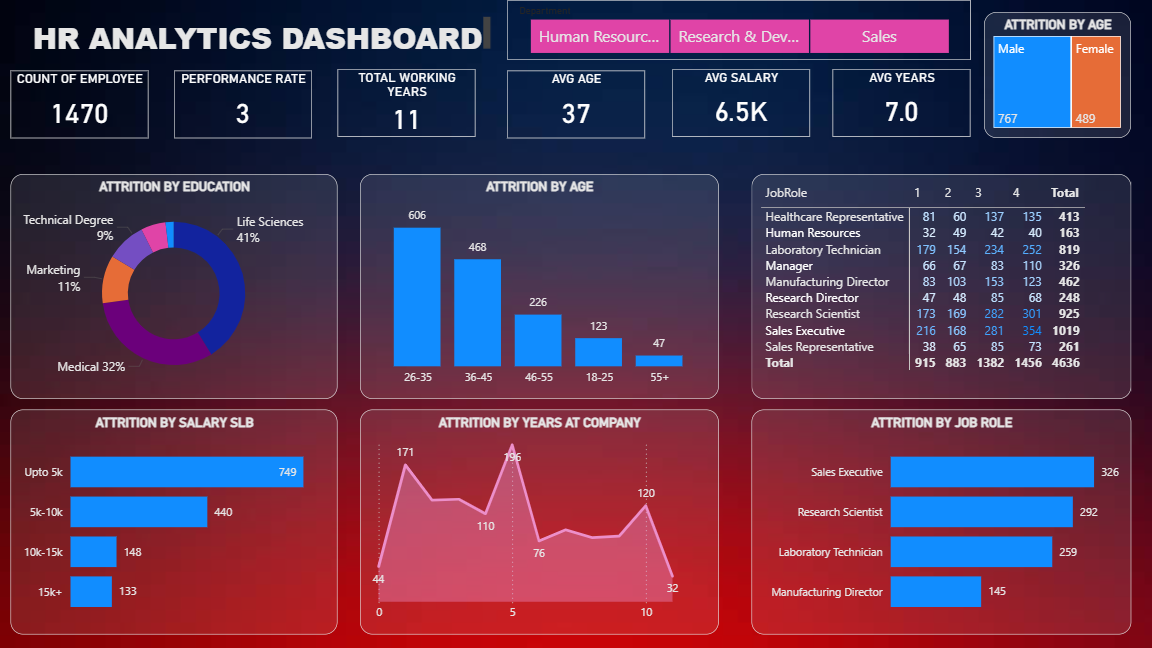

Layout of this report page (visuals, bound fields, positions):
{"tool":"powerbi","page":{"name":"Page 1","canvas":[1280,720],"ordinal":0},"visuals":[{"type":"card","title":"COUNT OF EMPLOYEE","fields":{"Values":["CountNonNull(HR Project.EmpID)"]},"box":[11.5,78.1,153.1,75],"z":0},{"type":"card","title":"AVG AGE","fields":{"Values":["Avg(HR_Analytics.Age)"]},"box":[564,78.3,153.4,75.1],"z":1000},{"type":"card","title":"PERFORMANCE RATE","fields":{"Values":["Avg(HR_Analytics.PerformanceRating)"]},"box":[193.8,78.1,153.1,75],"z":2000},{"type":"card","title":"TOTAL WORKING YEARS","fields":{"Values":["Avg(HR_Analytics.TotalWorkingYears)"]},"box":[375.5,76.7,153.4,75.1],"z":3000},{"type":"card","title":"AVG SALARY","fields":{"Values":["Avg(HR_Analytics.MonthlyIncome)"]},"box":[746.1,76.7,153.4,75.1],"z":4000},{"type":"card","title":"AVG YEARS","fields":{"Values":["Avg(HR_Analytics.YearsAtCompany)"]},"box":[925.1,76.7,153.4,75.1],"z":5000},{"type":"donutChart","title":"ATTRITION BY EDUCATION","fields":{"Category":["HR_Analytics.EducationField"],"Y":["CountNonNull(HR_Analytics.AttritionCount)"]},"box":[11.7,193.3,363.3,250],"z":6000},{"type":"columnChart","title":"ATTRITION BY AGE","fields":{"Category":["HR_Analytics.AgeGroup"],"Y":["CountNonNull(HR_Analytics.AttritionCount)"]},"box":[400,193.3,398.3,250],"z":7000},{"type":"pivotTable","fields":{"Rows":["HR_Analytics.JobRole"],"Columns":["HR_Analytics.JobSatisfaction"],"Values":["Sum(HR_Analytics.PerformanceRating)"]},"box":[835,193.3,421.7,250],"z":8000},{"type":"barChart","title":"ATTRITION BY SALARY SLB","fields":{"Category":["HR_Analytics.SalarySlab"],"Y":["CountNonNull(HR_Analytics.AttritionCount)"]},"box":[11.7,455,363.3,250],"z":9000},{"type":"barChart","title":"ATTRITION BY JOB ROLE","fields":{"Y":["CountNonNull(HR_Analytics.AttritionCount)"],"Category":["HR_Analytics.JobRole"]},"box":[835,455,421.7,250],"z":10000},{"type":"areaChart","title":"ATTRITION BY YEARS AT COMPANY","fields":{"Category":["HR_Analytics.YearsAtCompany"],"Y":["CountNonNull(HR_Analytics.AttritionCount)"]},"box":[400,455,398.3,250],"z":11000},{"type":"treemap","title":"ATTRITION BY AGE","fields":{"Group":["HR_Analytics.Gender"],"Values":["CountNonNull(HR_Analytics.AttritionCount)"]},"box":[1093.3,13.3,163.3,140],"z":12000},{"type":"slicer","fields":{"Values":["HR_Analytics.Department"]},"box":[563.3,0,515,66.7],"z":13000},{"type":"textbox","box":[31.7,13.3,518.3,50],"z":14000}]}

Visuals, with their boxes in screenshot pixels (x1, y1, x2, y2), scaled from the page's 1280x720 canvas onto the 1152x648 screenshot:
"COUNT OF EMPLOYEE" card: box(10, 70, 148, 138)
"AVG AGE" card: box(508, 70, 646, 138)
"PERFORMANCE RATE" card: box(174, 70, 312, 138)
"TOTAL WORKING YEARS" card: box(338, 69, 476, 137)
"AVG SALARY" card: box(671, 69, 810, 137)
"AVG YEARS" card: box(833, 69, 971, 137)
"ATTRITION BY EDUCATION" donutChart: box(11, 174, 338, 399)
"ATTRITION BY AGE" columnChart: box(360, 174, 718, 399)
pivotTable - HR_Analytics.JobRole x HR_Analytics.JobSatisfaction: box(752, 174, 1131, 399)
"ATTRITION BY SALARY SLB" barChart: box(11, 410, 338, 634)
"ATTRITION BY JOB ROLE" barChart: box(752, 410, 1131, 634)
"ATTRITION BY YEARS AT COMPANY" areaChart: box(360, 410, 718, 634)
"ATTRITION BY AGE" treemap: box(984, 12, 1131, 138)
slicer - HR_Analytics.Department: box(507, 0, 970, 60)
textbox: box(29, 12, 495, 57)
